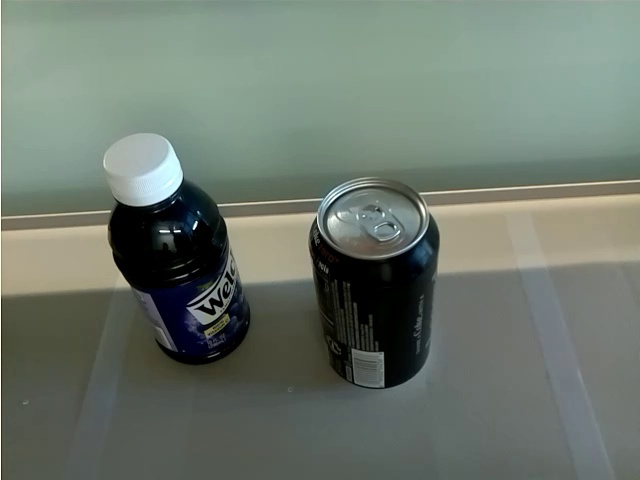cocacola: (308, 173, 442, 393)
juice: (100, 131, 255, 366)
